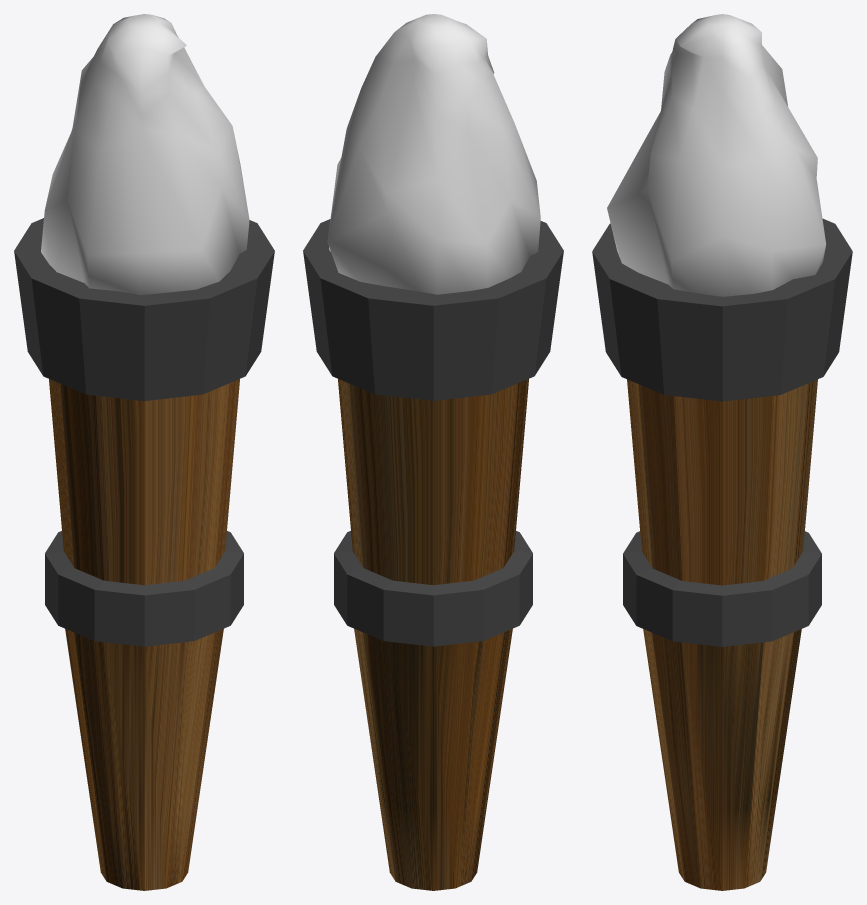
The model's file is antorcha.fbx.
The picture shows the model from 3 angles, left to right: view 1: azimuth 30°, elevation 25°; view 2: azimuth 150°, elevation 25°; view 3: azimuth 270°, elevation 25°; orthographic projection.
Parts seen in each view (by area): view 1: Cylinder, Cylinder.001; view 2: Cylinder, Cylinder.001; view 3: Cylinder, Cylinder.001.
Part boxes in pixels (box(x1,y1,x2,y2)): Cylinder: box(14, 218, 274, 890); Cylinder.001: box(41, 14, 249, 295); Cylinder: box(303, 219, 563, 890); Cylinder.001: box(327, 14, 540, 294); Cylinder: box(592, 218, 852, 890); Cylinder.001: box(607, 14, 826, 296).
Size of the model in its own units: 180 by 648 by 180.
Materials: 3 (1 with a texture image).
